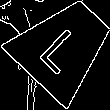L_NE: (35, 17, 93, 75)
